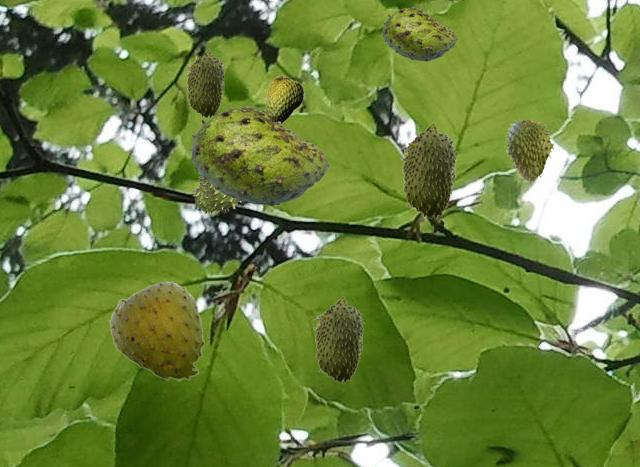guyabano: (190, 106, 328, 205), (108, 281, 204, 381), (400, 122, 457, 218), (313, 296, 364, 382), (382, 7, 456, 60), (504, 119, 555, 182), (185, 49, 225, 117), (191, 172, 242, 213), (264, 75, 303, 124)
